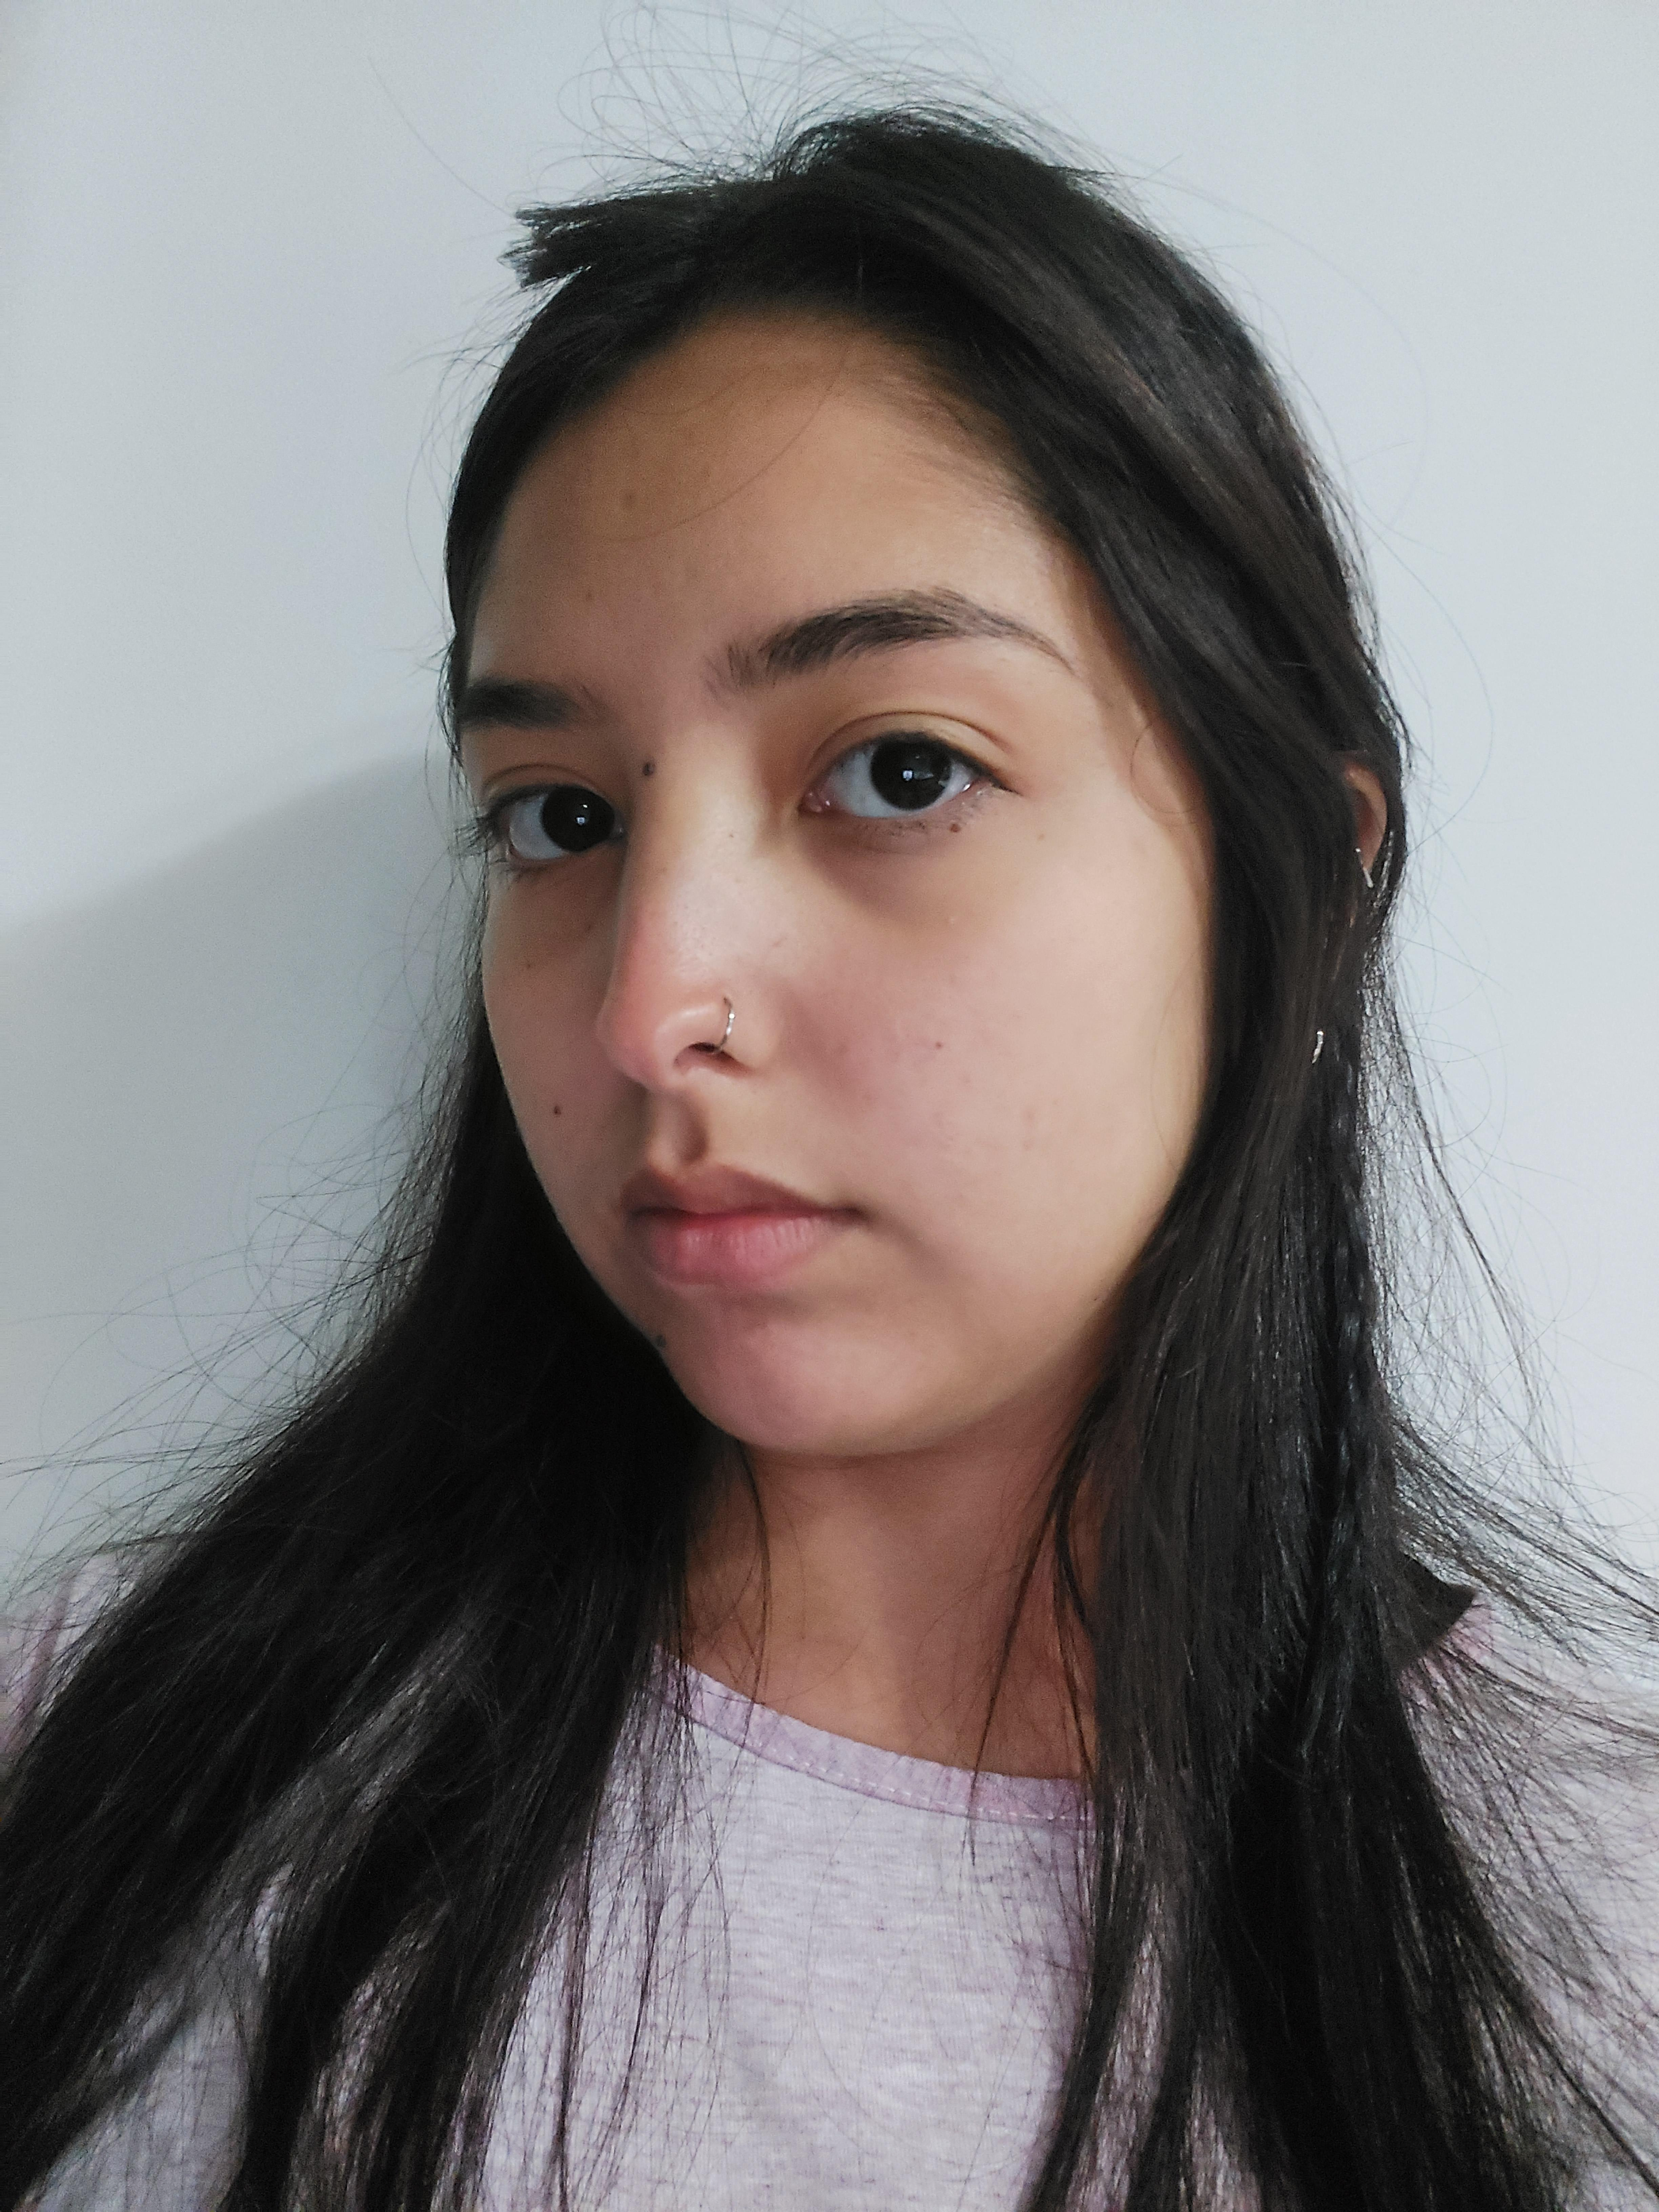Acne: (922, 1031, 958, 1062)
Englarged-Pores: (652, 895, 755, 984)
